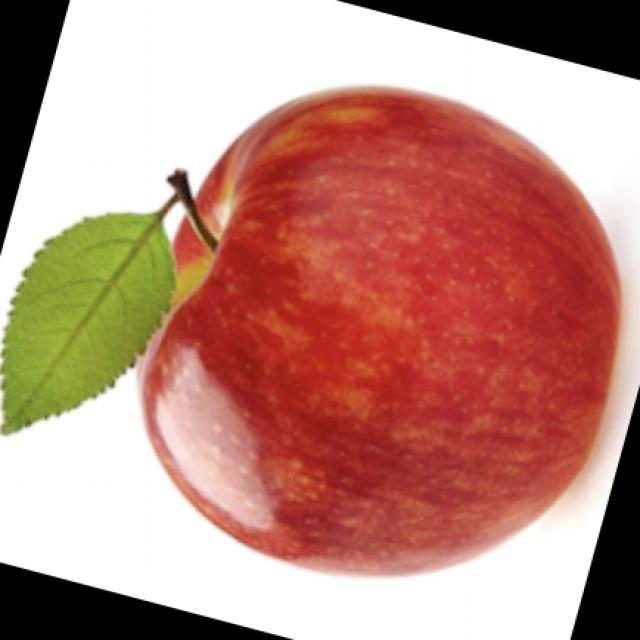Fresh Apple: (153, 85, 607, 548)
